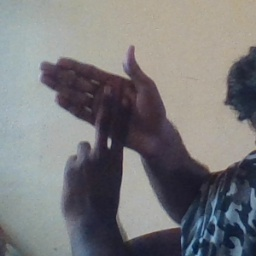N: (32, 41, 174, 192)
